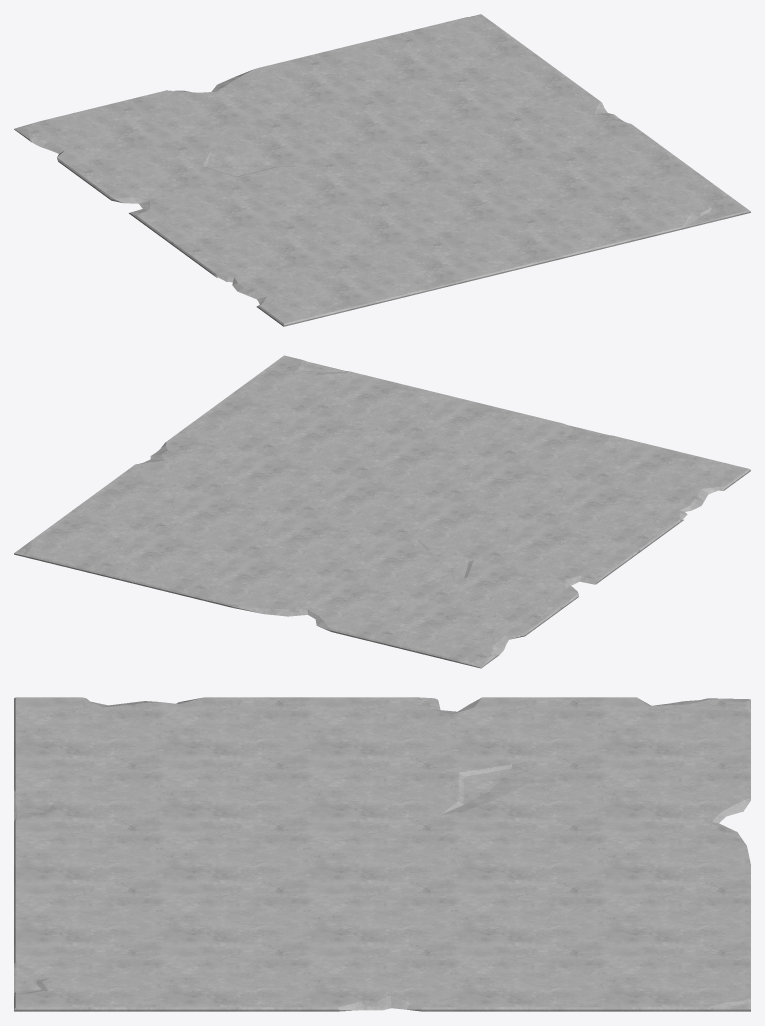
The model's file is Ground_panel_2.glb.
The picture shows the model from 3 angles, top to bottom: view 1: azimuth 30°, elevation 25°; view 2: azimuth 150°, elevation 25°; view 3: azimuth 270°, elevation 25°; orthographic projection. The views are drawn at different scales.
Parts seen in each view (by area): view 1: Ground panel 2; view 2: Ground panel 2; view 3: Ground panel 2.
Part boxes in pixels (x1,y1,x2,y2): Ground panel 2: (14, 14, 750, 326); Ground panel 2: (14, 355, 750, 668); Ground panel 2: (14, 697, 750, 1011).
Size of the model in its own units: 80 by 0.4 by 80.
Materials: 1 (1 with a texture image).
